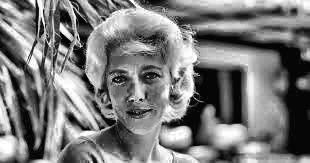sad: (102, 66, 168, 140)
